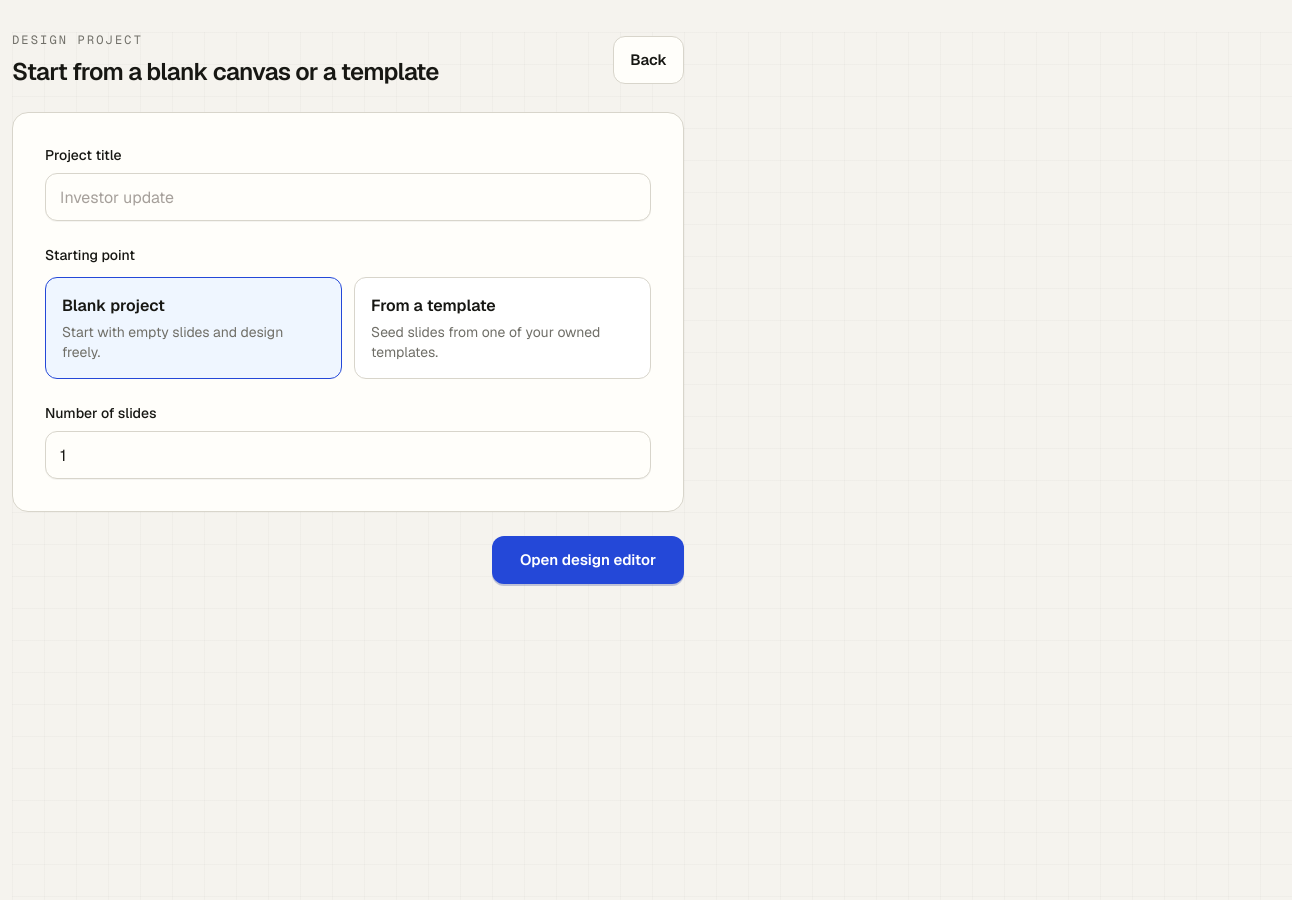
DesignProjectSetup › shows the request error and offers retry on bootstrap failure
Type "Board deck" into the field labelled "Project title" at (348, 197), box left=45, top=173, right=651, bottom=221
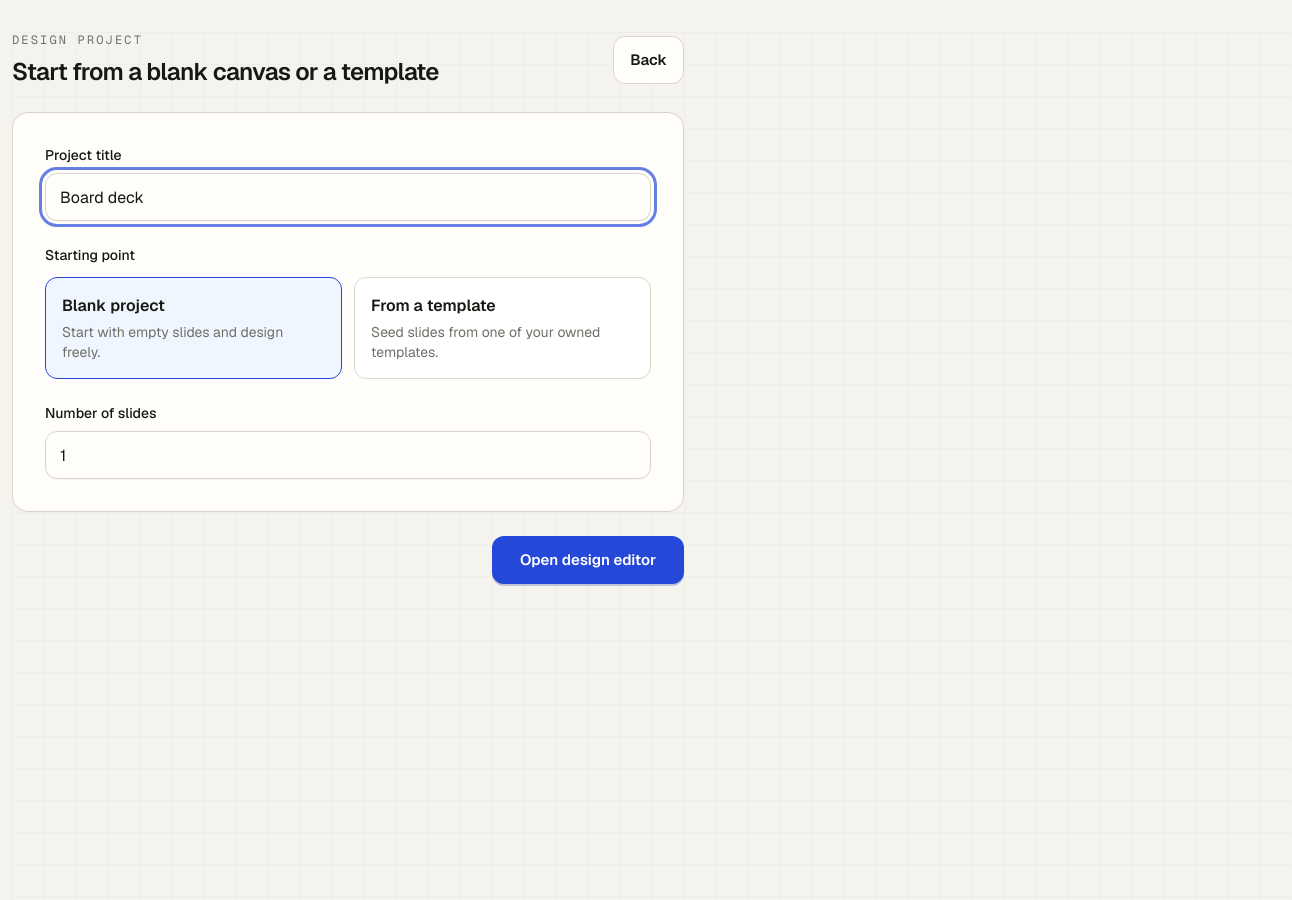
Click the button "Open design editor" at (588, 560), box left=492, top=536, right=684, bottom=584
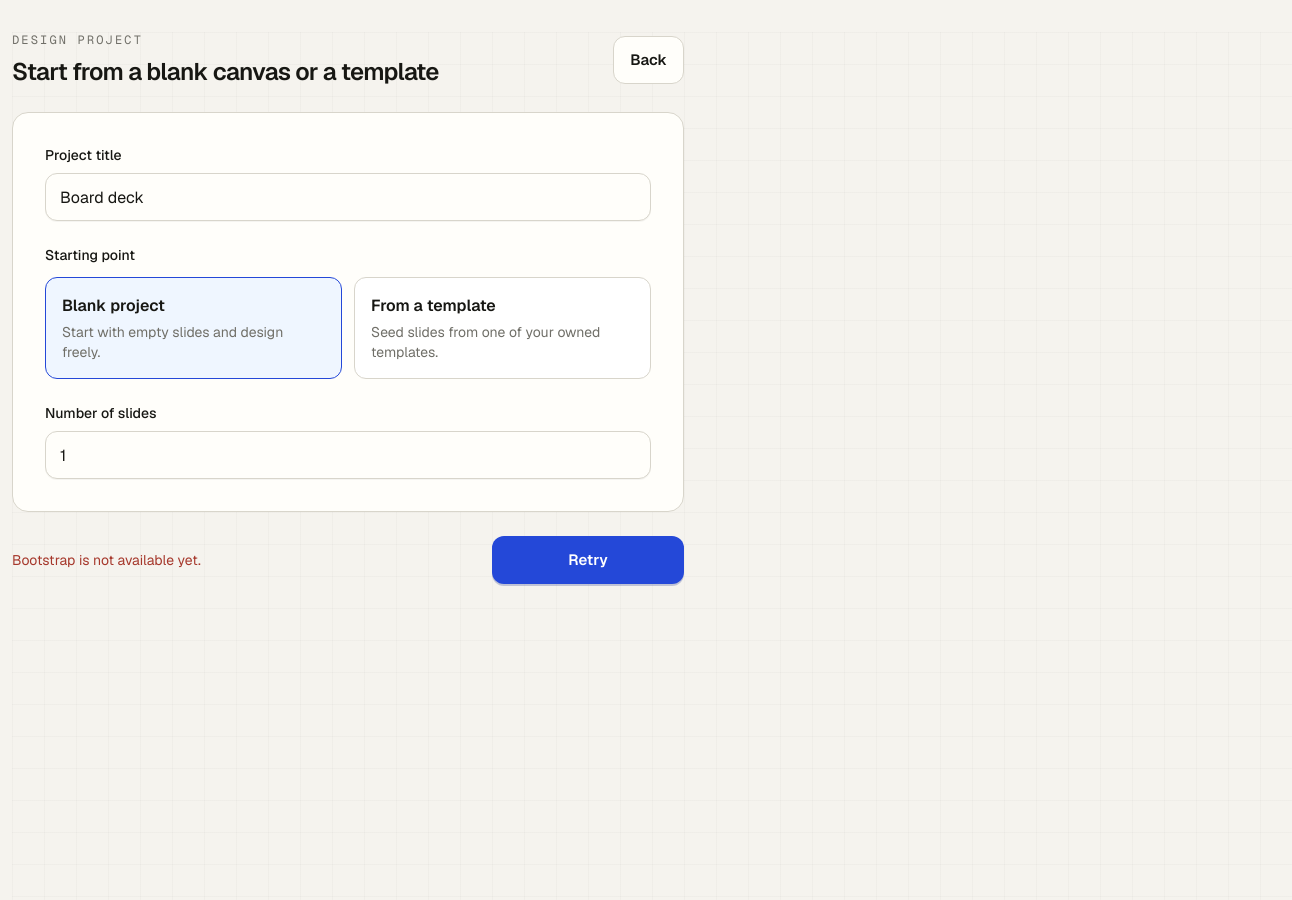
Now the text "Bootstrap is not available yet." is shown, box left=12, top=550, right=201, bottom=570
Now the button "Retry" is shown, box left=492, top=536, right=684, bottom=584
